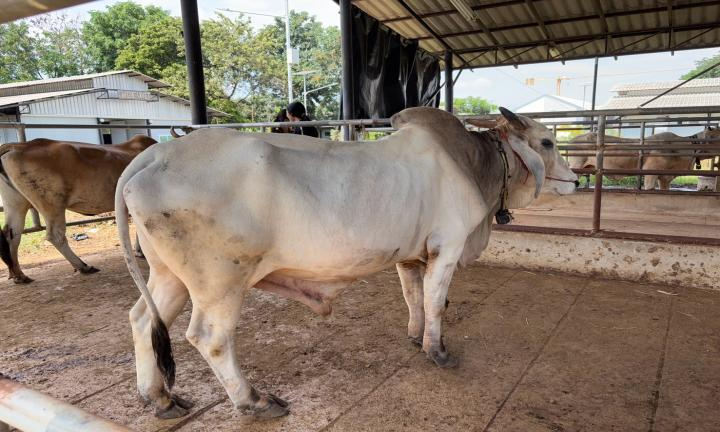Brahman: (116, 107, 575, 418)
